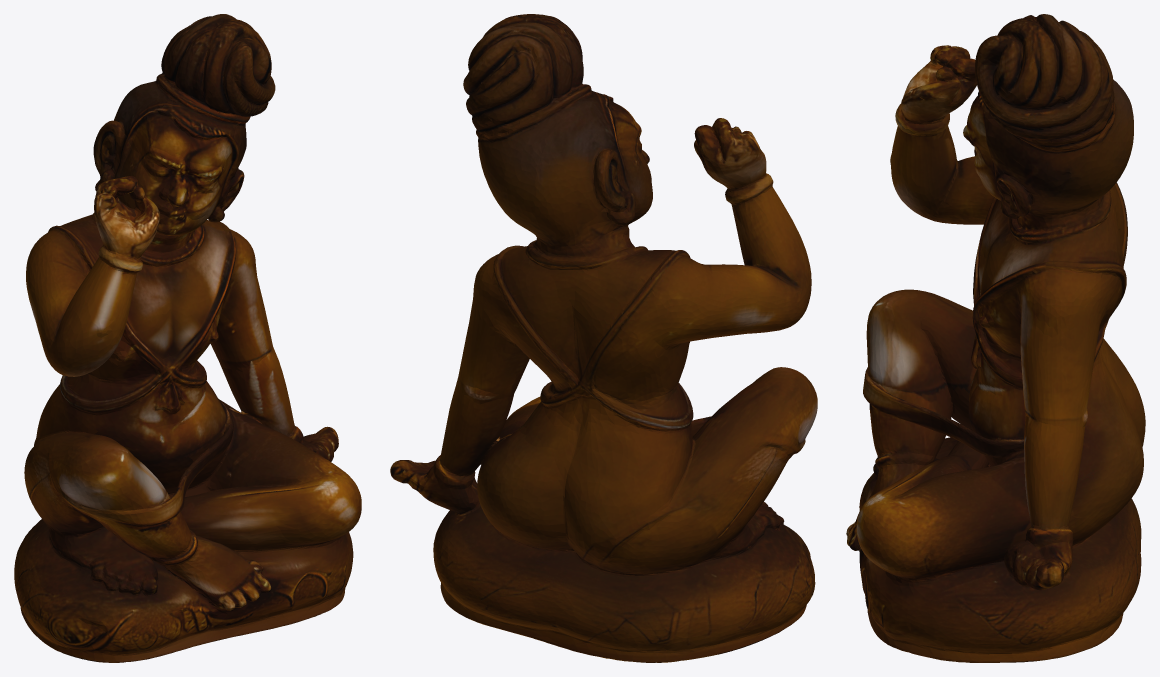
3 views of the same model, side by side, from view 1: azimuth 30°, elevation 25°; view 2: azimuth 150°, elevation 25°; view 3: azimuth 270°, elevation 25° (orthographic). The views are drawn at different scales.
Parts seen in each view (by area): view 1: textured_mesh; view 2: textured_mesh; view 3: textured_mesh.
Part boxes in pixels (x1,y1,x2,y2): textured_mesh: (14, 14, 361, 662); textured_mesh: (390, 14, 817, 662); textured_mesh: (846, 14, 1145, 662).
Size of the model in its own units: 1.32 by 1.99 by 0.902.
1 material, 1 textured.
